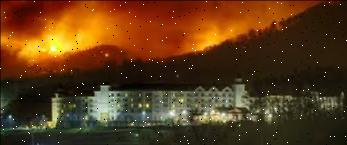fire: (0, 10, 122, 76)
